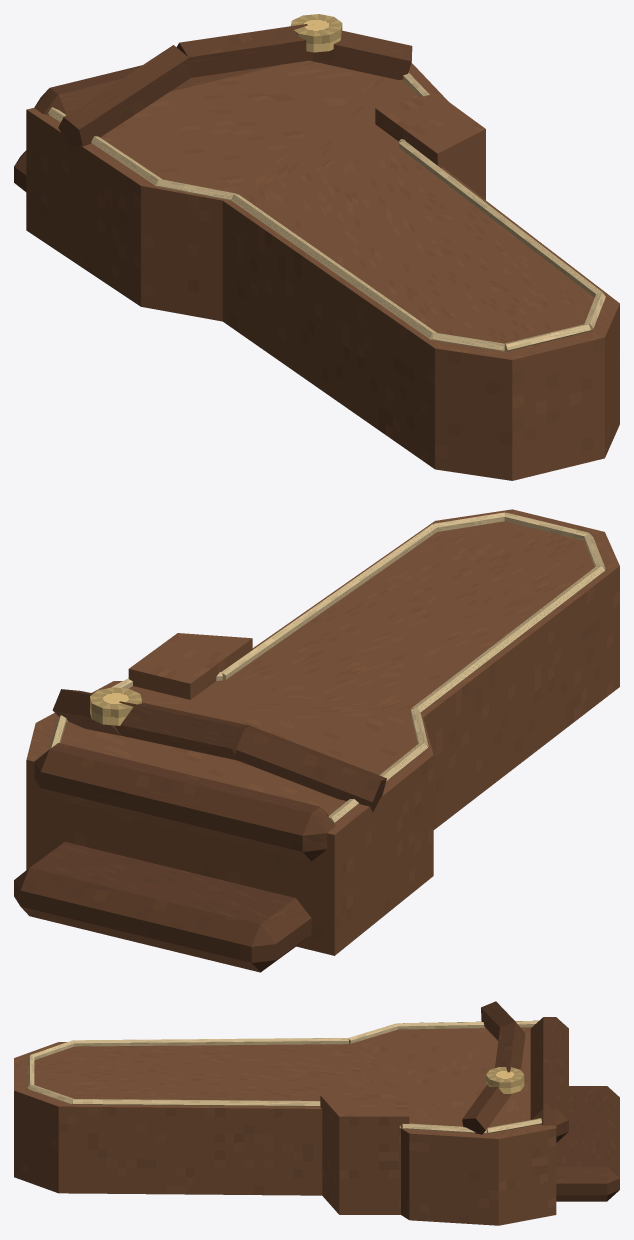
The model's file is holster.glb.
The picture shows the model from 3 angles, top to bottom: view 1: azimuth 30°, elevation 25°; view 2: azimuth 150°, elevation 25°; view 3: azimuth 270°, elevation 25°; orthographic projection. The views are drawn at different scales.
Visible parts, largest first — view 1: block_molded holster body, block_trigger guard bulge, block_thumb-break strap 0, block_thumb-break strap 1, block_thumb-break strap 2, block_holster mouth, block_edge stitching 4, block_edge stitching 8, block_strap snap, block_edge stitching 10, block_edge stitching 6, block_edge stitching 9 (+1 smaller); view 2: block_molded holster body, block_belt loop, block_holster mouth, block_thumb-break strap 0, block_trigger guard bulge, block_thumb-break strap 1, block_edge stitching 4, block_edge stitching 8, block_strap snap, block_thumb-break strap 2, block_edge stitching 10, block_edge stitching 6 (+1 smaller); view 3: block_molded holster body, block_trigger guard bulge, block_belt loop, block_holster mouth, block_edge stitching 8, block_edge stitching 4, block_thumb-break strap 2, block_thumb-break strap 1, block_strap snap, block_thumb-break strap 0, block_edge stitching 10, block_edge stitching 2 (+2 smaller).
Part boxes in pixels (<box>): block_molded holster body: <box>26,60,619,480</box>; block_trigger guard bulge: <box>375,93,485,199</box>; block_thumb-break strap 0: <box>58,45,190,147</box>; block_thumb-break strap 1: <box>176,24,312,77</box>; block_thumb-break strap 2: <box>310,24,412,79</box>; block_holster mouth: <box>34,64,280,114</box>; block_edge stitching 4: <box>399,140,604,297</box>; block_edge stitching 8: <box>231,194,436,339</box>; block_strap snap: <box>290,14,342,52</box>; block_edge stitching 10: <box>48,107,162,186</box>; block_edge stitching 6: <box>505,324,590,351</box>; block_edge stitching 9: <box>157,179,236,200</box>; block_molded holster body: <box>26,509,619,955</box>; block_belt loop: <box>14,842,311,972</box>; block_holster mouth: <box>34,743,335,861</box>; block_thumb-break strap 0: <box>236,726,386,812</box>; block_trigger guard bulge: <box>128,633,252,699</box>; block_thumb-break strap 1: <box>114,701,250,760</box>; block_edge stitching 4: <box>221,524,436,679</box>; block_edge stitching 8: <box>411,565,604,712</box>; block_strap snap: <box>90,687,141,725</box>; block_thumb-break strap 2: <box>52,689,121,735</box>; block_edge stitching 10: <box>328,742,427,823</box>; block_edge stitching 6: <box>504,512,589,540</box>; block_molded holster body: <box>14,1020,556,1225</box>; block_trigger guard bulge: <box>320,1095,409,1214</box>; block_belt loop: <box>556,1086,619,1201</box>; block_holster mouth: <box>530,1017,568,1142</box>; block_edge stitching 8: <box>73,1038,348,1046</box>; block_edge stitching 4: <box>73,1099,320,1106</box>; block_thumb-break strap 2: <box>462,1084,511,1134</box>; block_thumb-break strap 1: <box>495,1023,525,1072</box>; block_strap snap: <box>486,1067,524,1093</box>; block_thumb-break strap 0: <box>481,1001,525,1040</box>; block_edge stitching 10: <box>397,1021,538,1029</box>; block_edge stitching 2: <box>402,1123,486,1133</box>.
Size of the model in its own units: 0.0963 by 0.0477 by 0.205.
2 materials, 2 textured.
